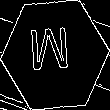M_S: (33, 28, 77, 82)
